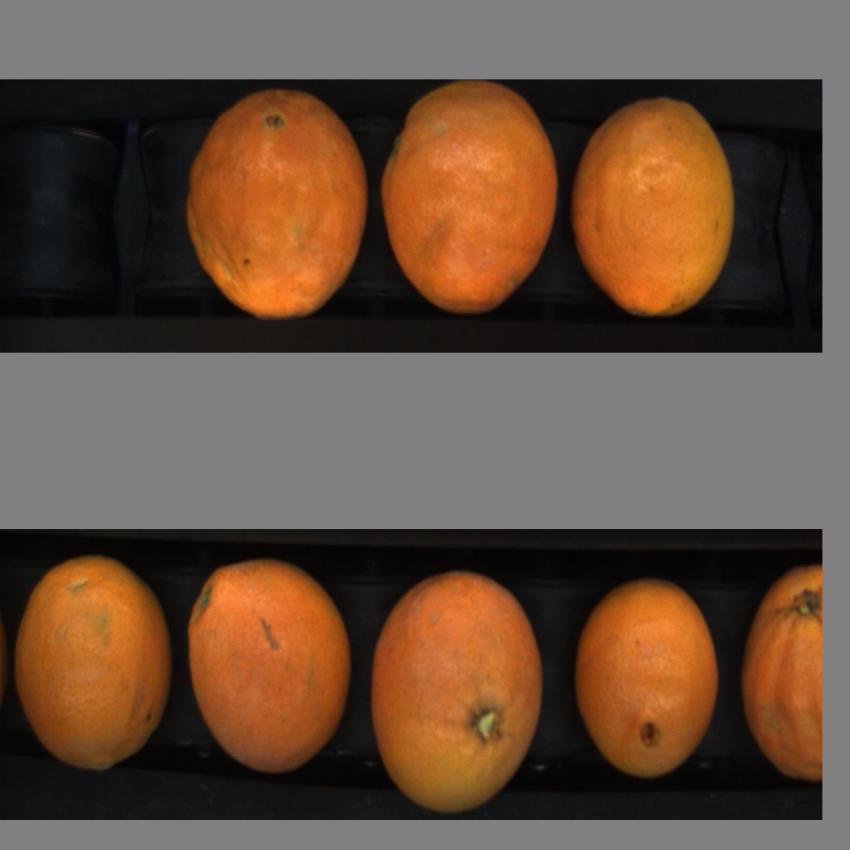Buen estado: (370, 570, 547, 806), (567, 84, 738, 322), (186, 552, 351, 778), (12, 553, 174, 773), (573, 564, 721, 788), (740, 557, 822, 790)
Mal estado: (186, 83, 370, 320), (379, 85, 563, 322)
